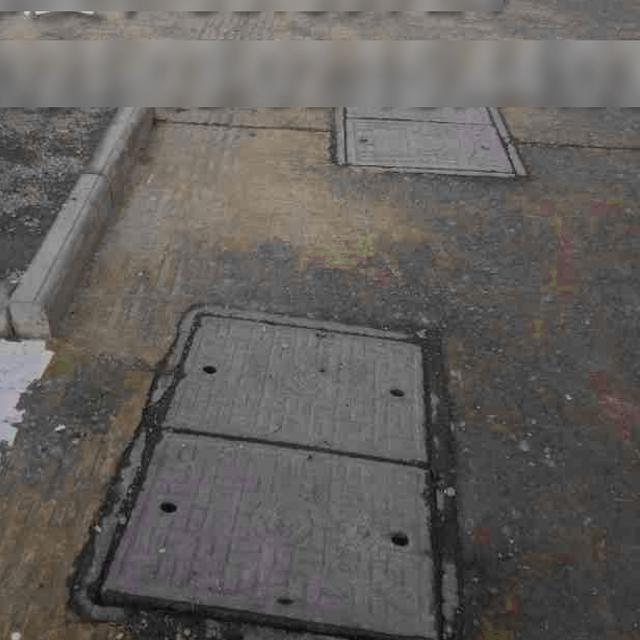good: (68, 304, 459, 640), (333, 79, 527, 178)
